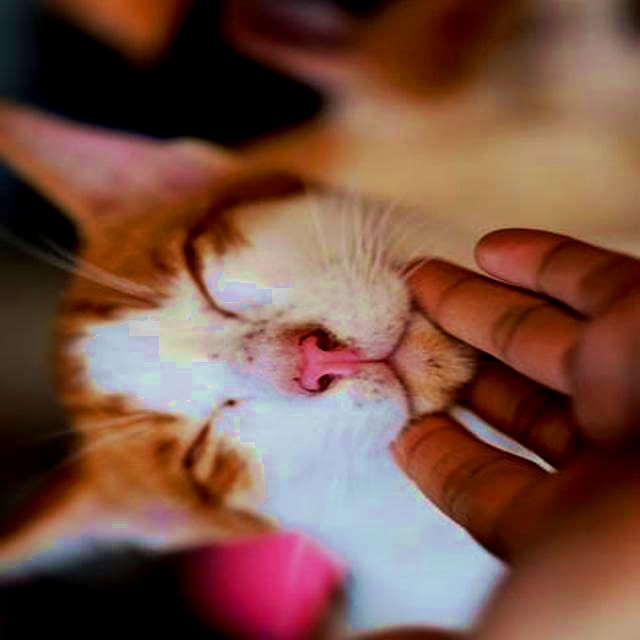acne: (202, 301, 293, 366)
